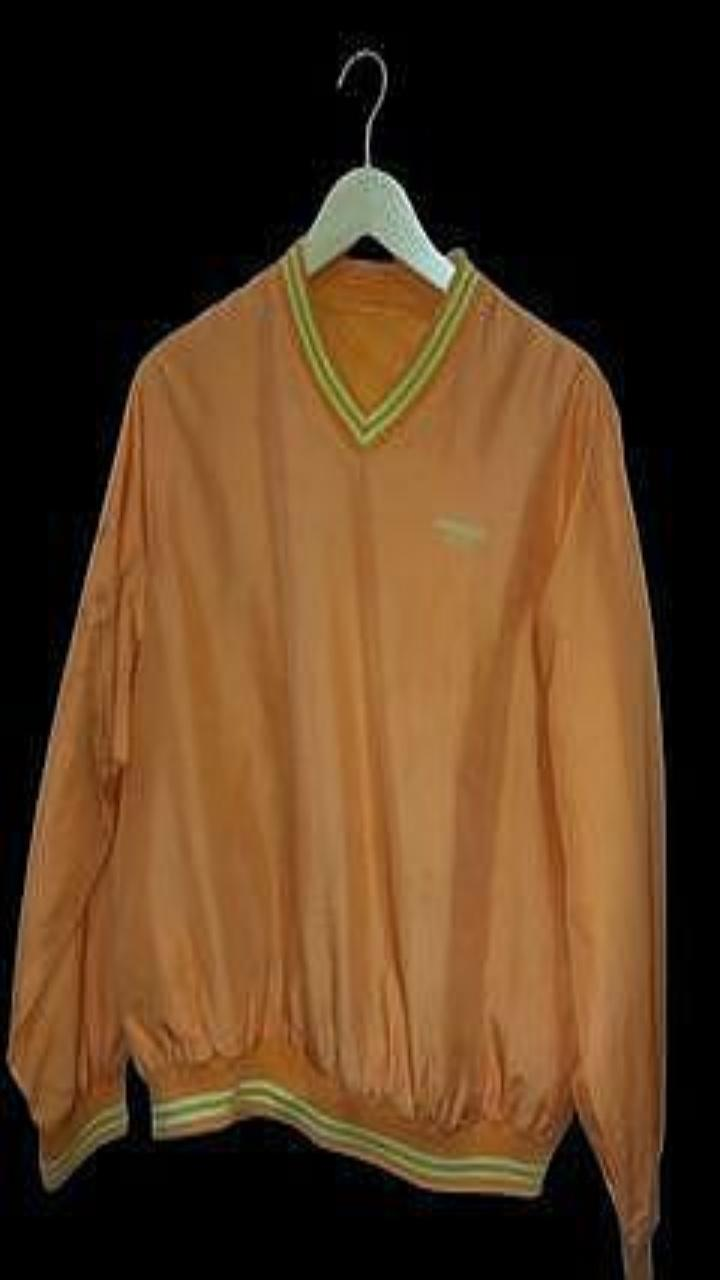T-Shirt: (8, 240, 663, 1279)
